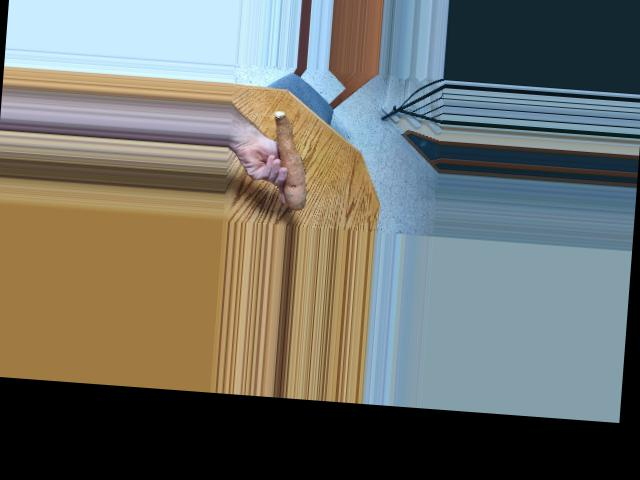sweet_potato: (263, 108, 316, 209)
